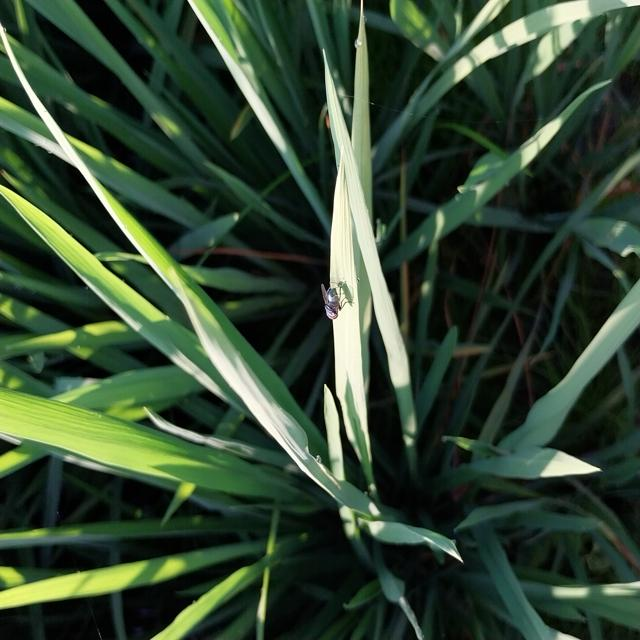Leaf scald: (311, 274, 354, 328)
